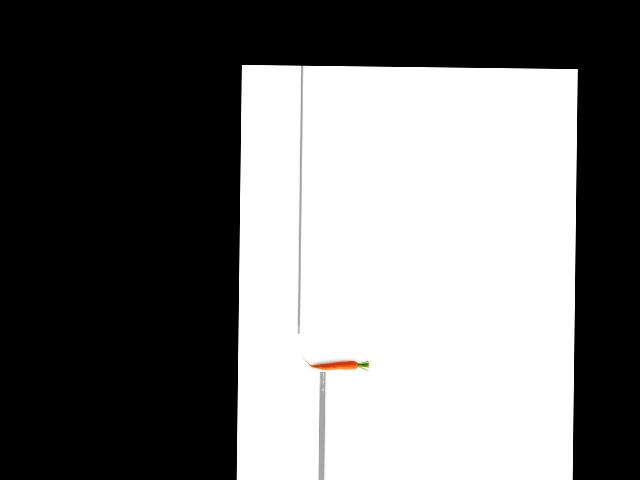carrot: (319, 358, 361, 372)
